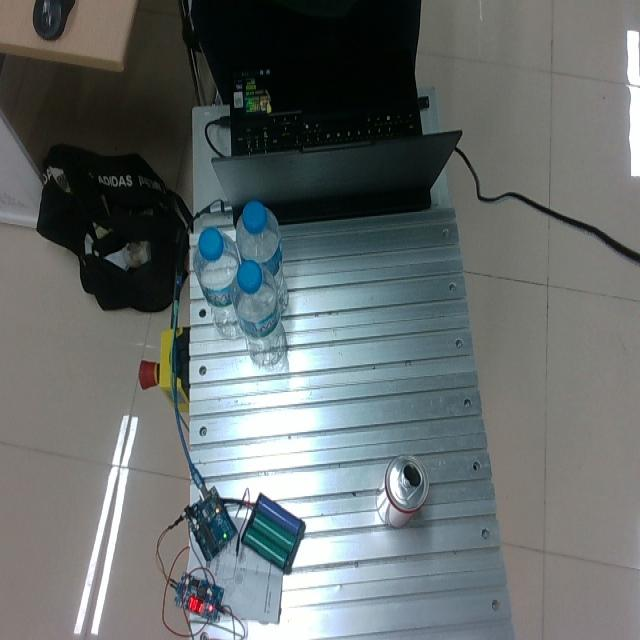coca: (377, 455, 428, 528)
lavie: (236, 201, 287, 316), (232, 263, 286, 368), (192, 227, 242, 336)
